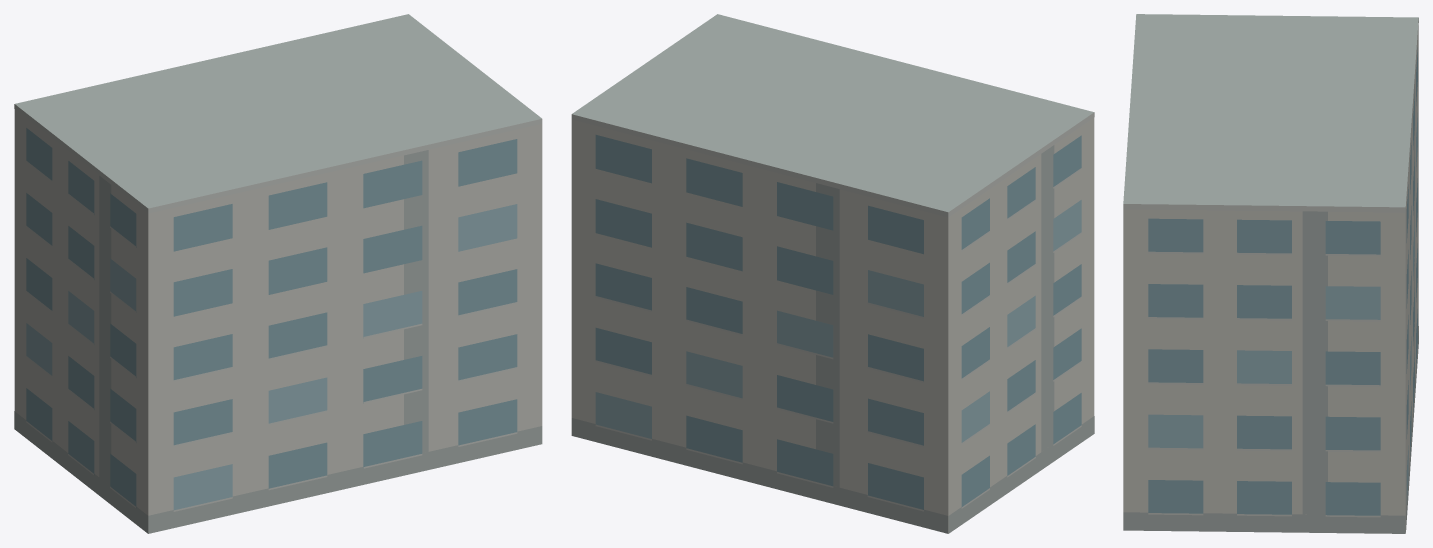
Rendered from survey-upis-32760137.glb.
3 views of the same model, side by side, from view 1: azimuth 30°, elevation 25°; view 2: azimuth 150°, elevation 25°; view 3: azimuth 270°, elevation 25° (orthographic).
Parts seen in each view (by area): view 1: survey-upis-32760137.tmp; view 2: survey-upis-32760137.tmp; view 3: survey-upis-32760137.tmp.
Part boxes in pixels (box(x1,y1,x2,y2)): survey-upis-32760137.tmp: box(14, 14, 542, 533); survey-upis-32760137.tmp: box(571, 14, 1094, 533); survey-upis-32760137.tmp: box(1123, 14, 1418, 533).
Bounding box in the file's own units: 19.37 × 15.25 × 12.51.
